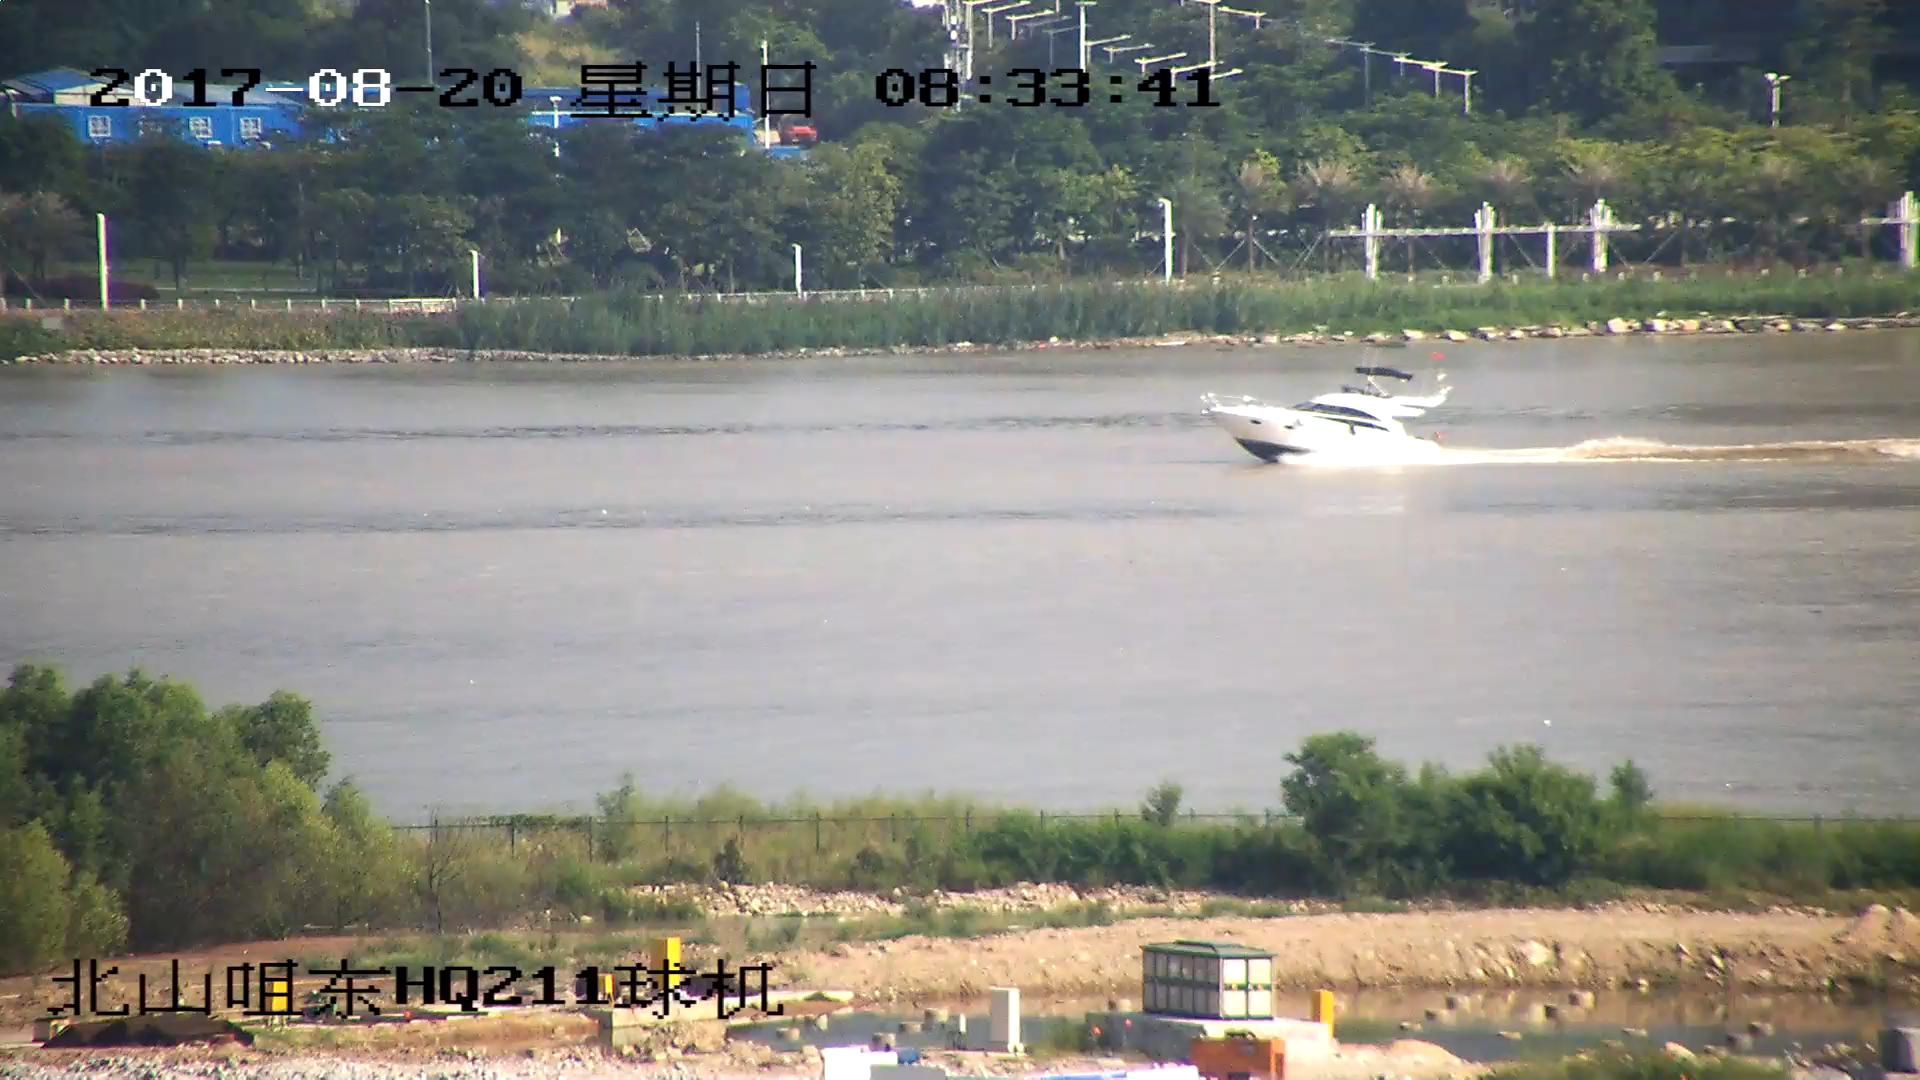passenger ship: (1200, 362, 1462, 463)
